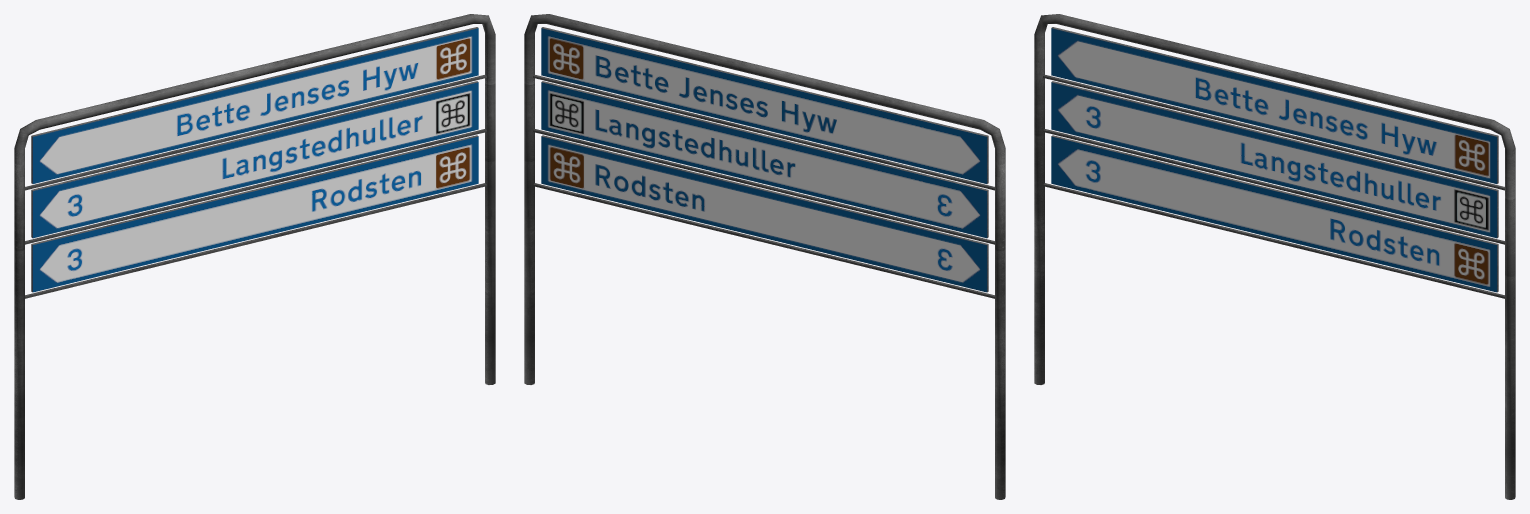
File: SkilteStortFur3.fbx
The picture shows the model from 3 angles, left to right: view 1: azimuth 30°, elevation 25°; view 2: azimuth 150°, elevation 25°; view 3: azimuth 330°, elevation 25°; orthographic projection.
Parts seen in each view (by area): view 1: Skilt_LOD0; view 2: Skilt_LOD0; view 3: Skilt_LOD0.
Boxes of the visible parts, x1,y1,x2,y2 form: Skilt_LOD0: (14,14,495,499); Skilt_LOD0: (524,14,1005,499); Skilt_LOD0: (1034,14,1515,499).
Size of what is drawn, in the model's own units: 255 by 190 by 5.
